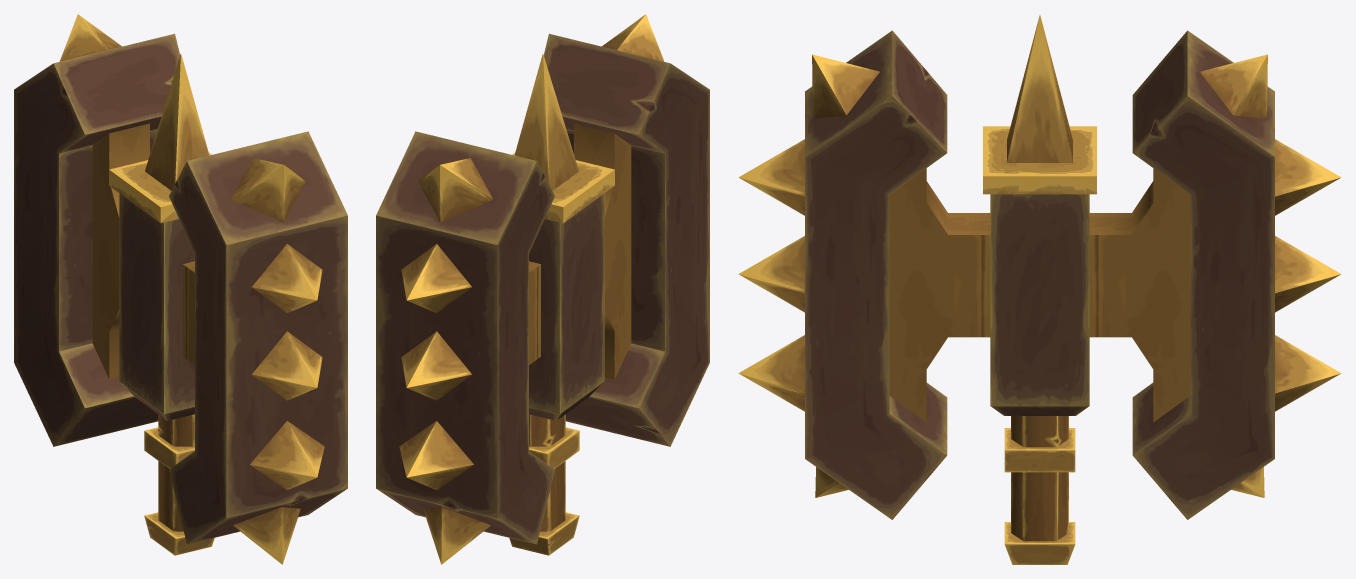
Rendered from SM_WEP_head_hammer_battle_08.fbx.
3 views of the same model, side by side, from view 1: azimuth 30°, elevation 25°; view 2: azimuth 150°, elevation 25°; view 3: azimuth 270°, elevation 25° (orthographic). The views are drawn at different scales.
Parts seen in each view (by area): view 1: SM_WEP_head_hammer_battle_08; view 2: SM_WEP_head_hammer_battle_08; view 3: SM_WEP_head_hammer_battle_08.
Boxes of the visible parts, x1,y1,x2,y2 form: SM_WEP_head_hammer_battle_08: (14,14,347,564); SM_WEP_head_hammer_battle_08: (376,14,709,564); SM_WEP_head_hammer_battle_08: (738,15,1341,564).
Bounding box in the file's own units: 15.31 × 58.88 × 59.51.
